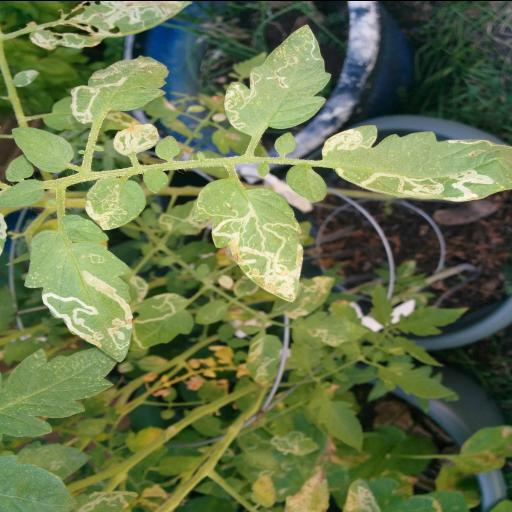disease_tomato: (20, 214, 134, 365), (320, 124, 512, 200), (192, 178, 304, 302), (222, 24, 334, 133), (24, 0, 193, 49), (64, 54, 170, 123), (82, 176, 146, 228), (111, 122, 160, 154)
